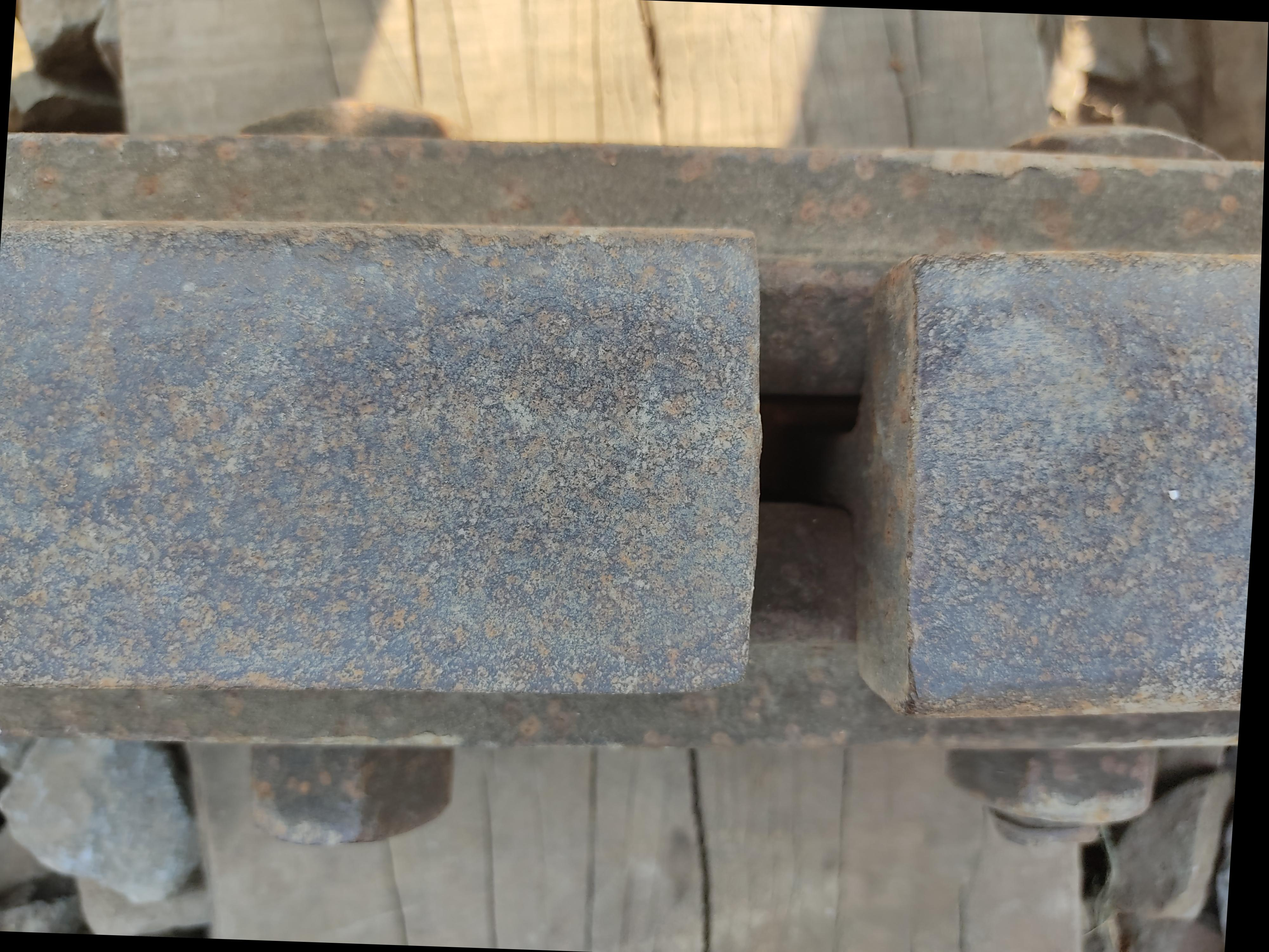person: (285, 569, 510, 826)
